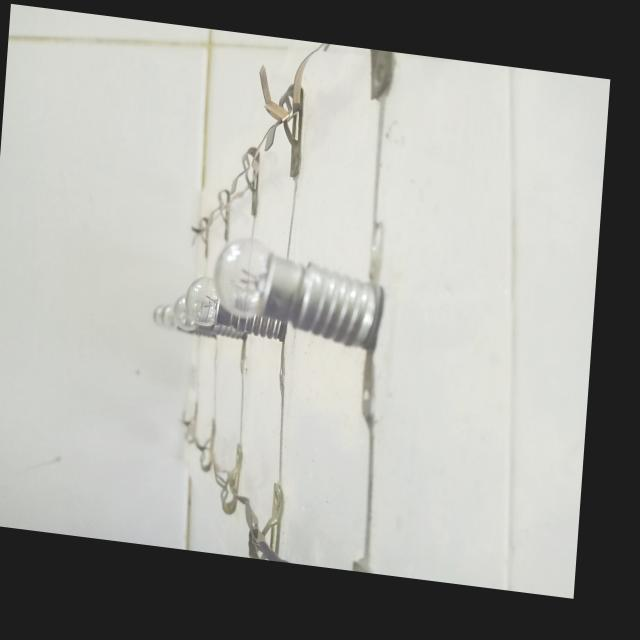Set of Resistors and Bulbs: (126, 36, 406, 553)
